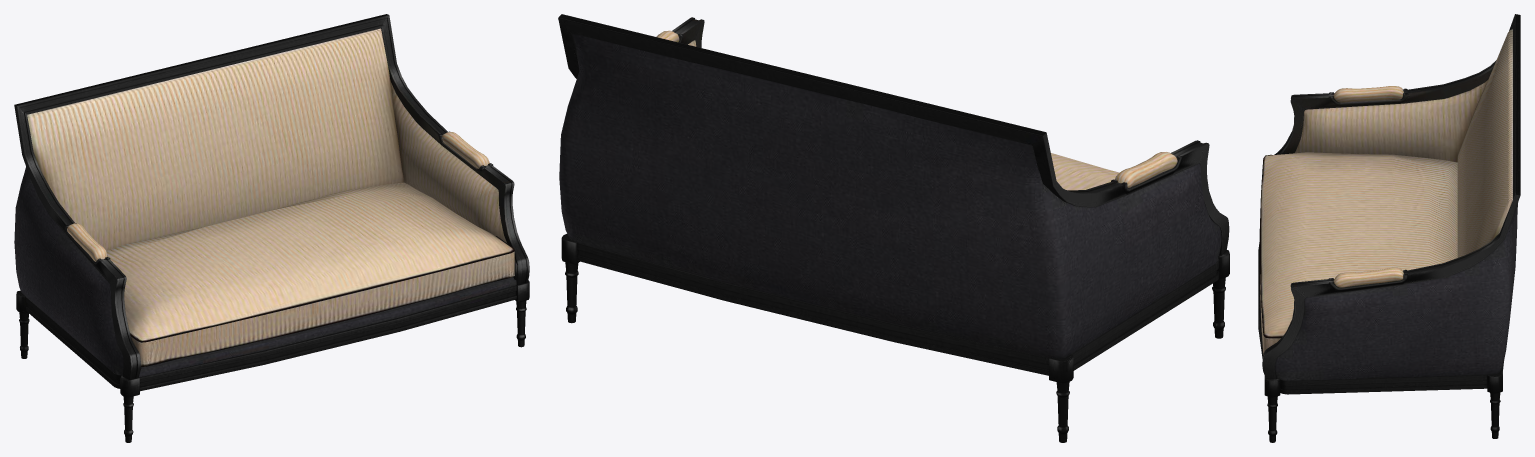
The model's file is raw_model.obj.
3 renders of one model, left to right at view 1: azimuth 30°, elevation 25°; view 2: azimuth 150°, elevation 25°; view 3: azimuth 270°, elevation 25°, orthographic. The views are drawn at different scales.
Visible parts, largest first — view 1: Mazarin_sofa; view 2: Mazarin_sofa; view 3: Mazarin_sofa.
Part boxes in pixels (x1=…): Mazarin_sofa: x1=14, y1=14, x2=529, y2=442; Mazarin_sofa: x1=558, y1=14, x2=1229, y2=442; Mazarin_sofa: x1=1258, y1=14, x2=1520, y2=442.
Bounding box in the file's own units: 1.51 × 0.857 × 0.8402.
1 material, 1 textured.
